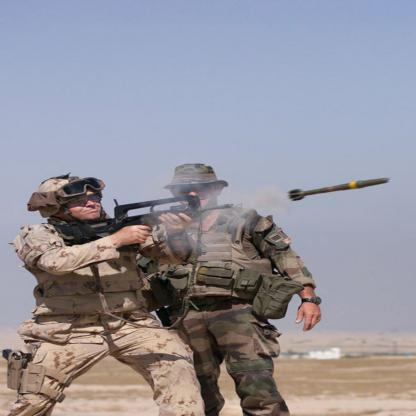face: (177, 180, 215, 207), (72, 190, 102, 223)
